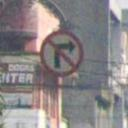NoVirarDireita: (38, 29, 85, 78)
